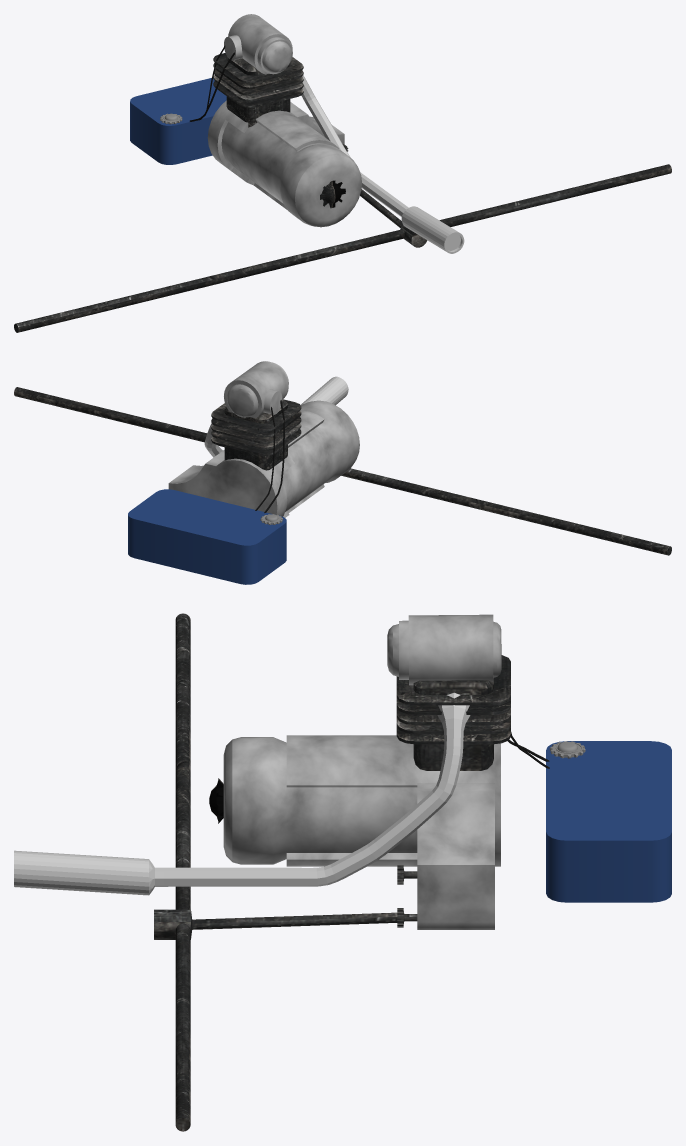
Rendered from MotorMoto.fbx.
3 views of the same model, one above another, from view 1: azimuth 30°, elevation 25°; view 2: azimuth 150°, elevation 25°; view 3: azimuth 270°, elevation 25° (orthographic). The views are drawn at different scales.
Parts seen in each view (by area): view 1: Motor, CañoEscape; view 2: Motor, CañoEscape; view 3: Motor, CañoEscape.
Boxes of the visible parts, <box> form: Motor: <box>14,14,671,332</box>; CañoEscape: <box>301,75,464,253</box>; Motor: <box>14,361,671,584</box>; CañoEscape: <box>204,376,348,457</box>; Motor: <box>154,613,671,1131</box>; CañoEscape: <box>14,692,470,895</box>.
Size of the model in its own units: 1.24 by 0.3097 by 0.6845.
Materials: 6 (2 with a texture image).
